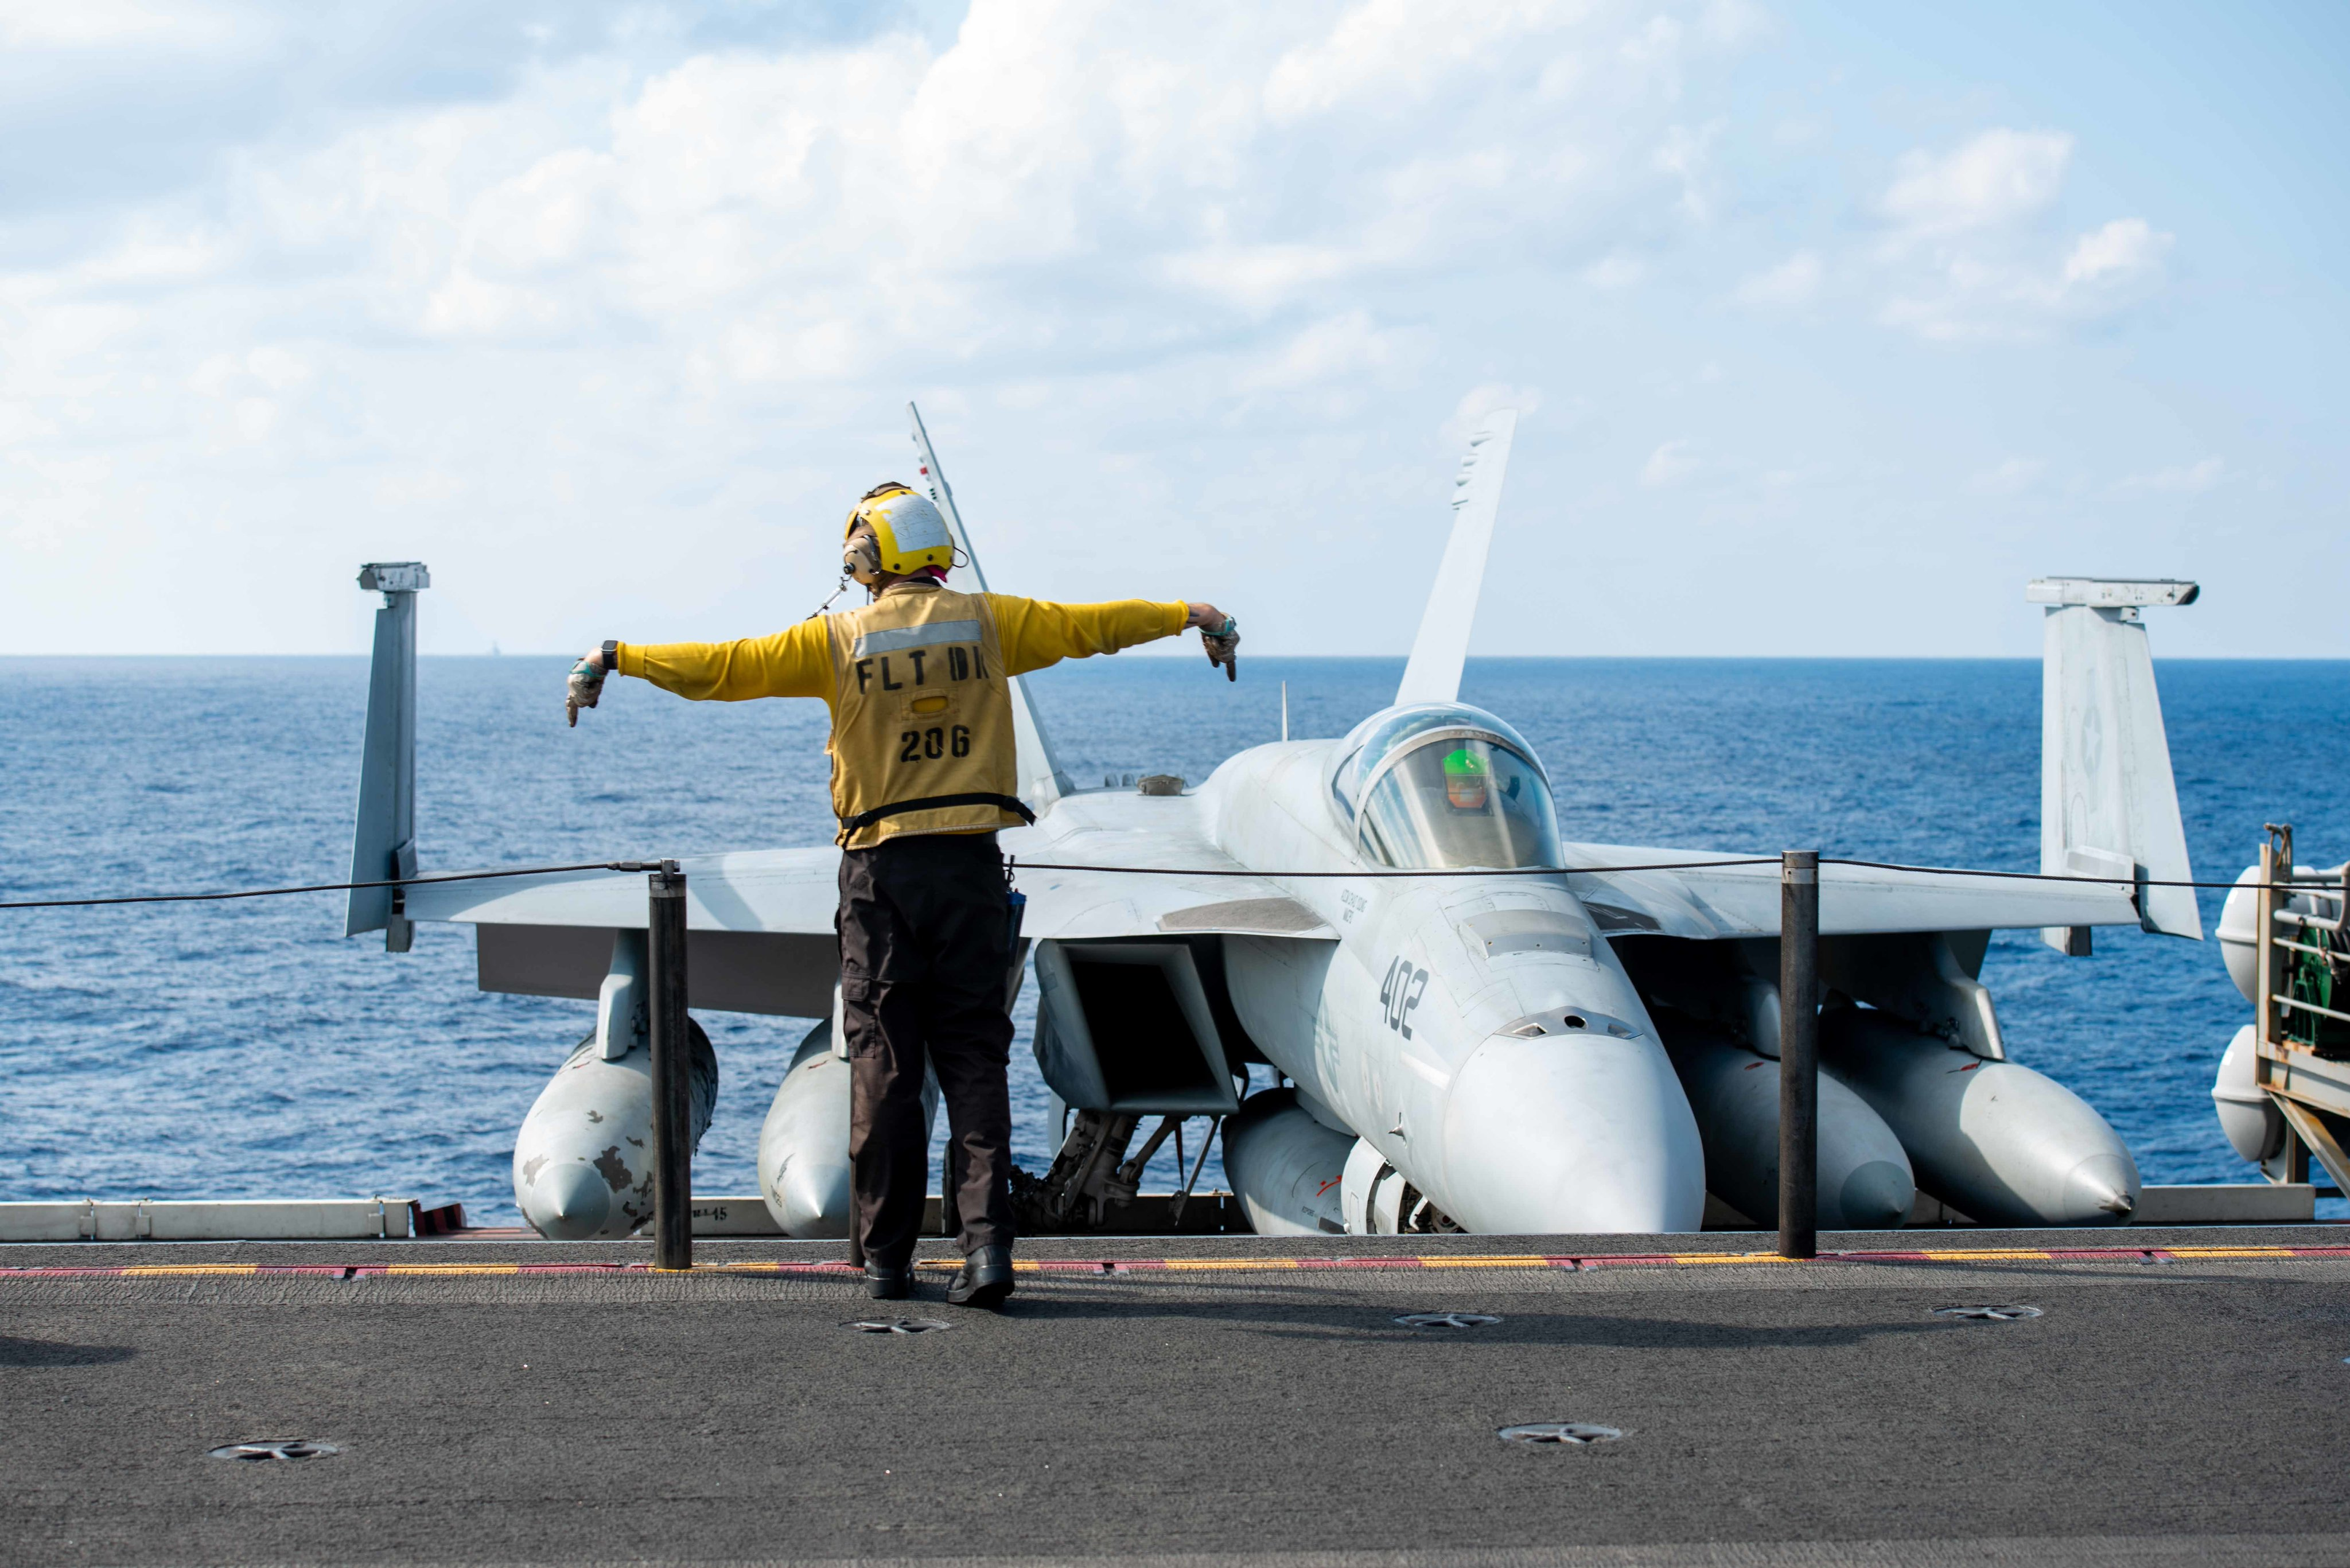airplane: (343, 399, 2203, 1241)
